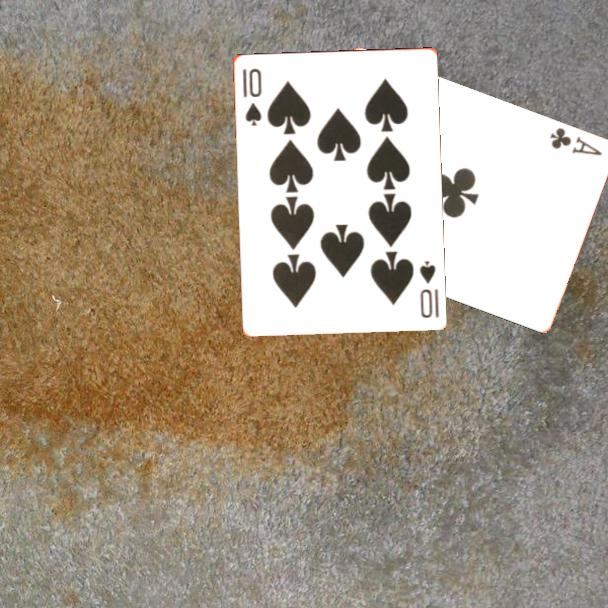c01: (546, 124, 604, 159)
s10: (416, 257, 441, 321), (239, 65, 264, 128)
